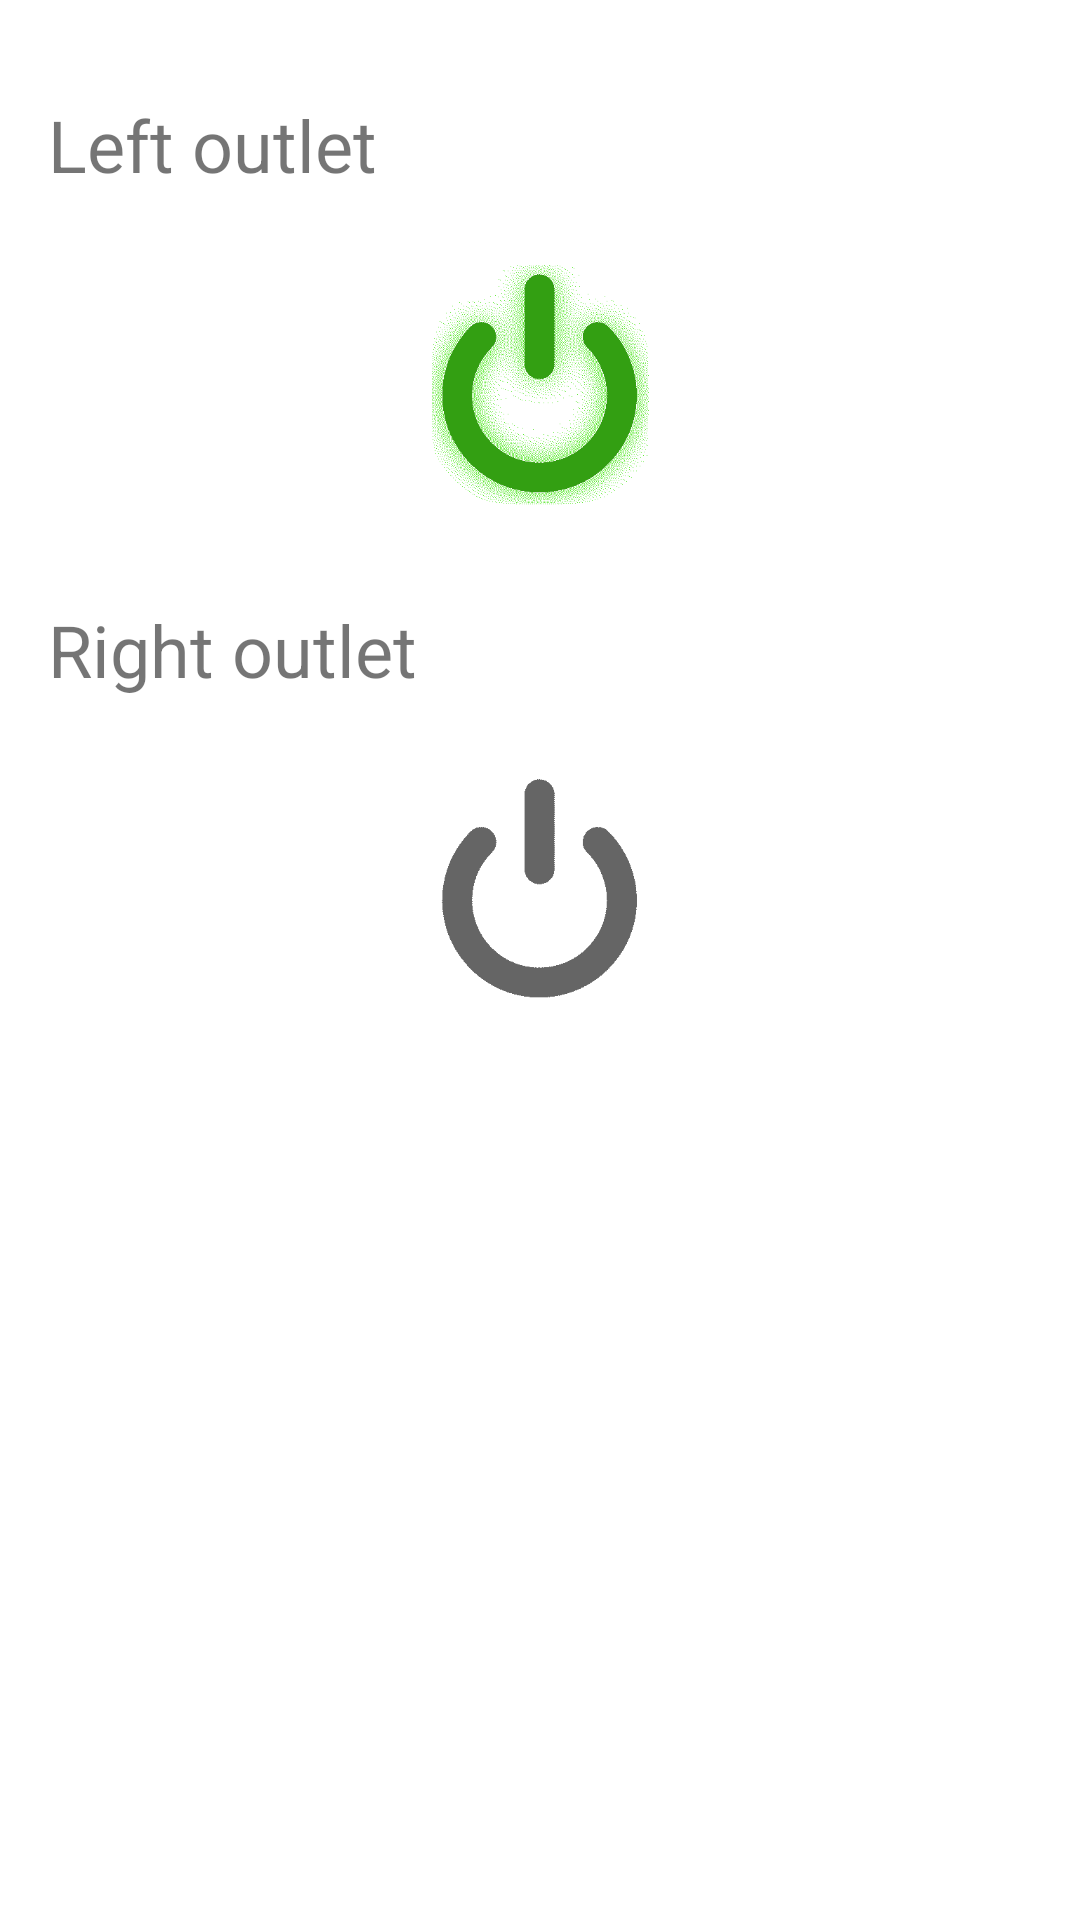

Locate icon controls on the screen. Image size 1080px x 1920px, boxes as [x1,y1,x2,y2].
power off: [442,779,637,998]
power on: [432,265,649,505]
